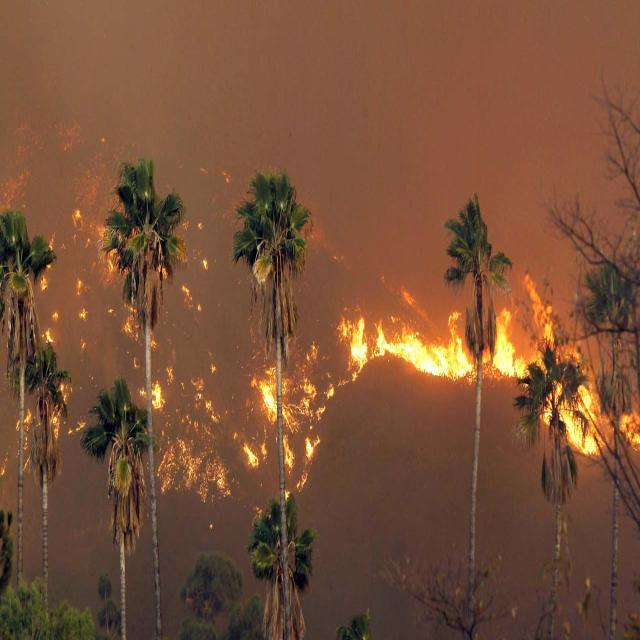Fire: (0, 216, 640, 492)
Smoke: (0, 0, 640, 348)
